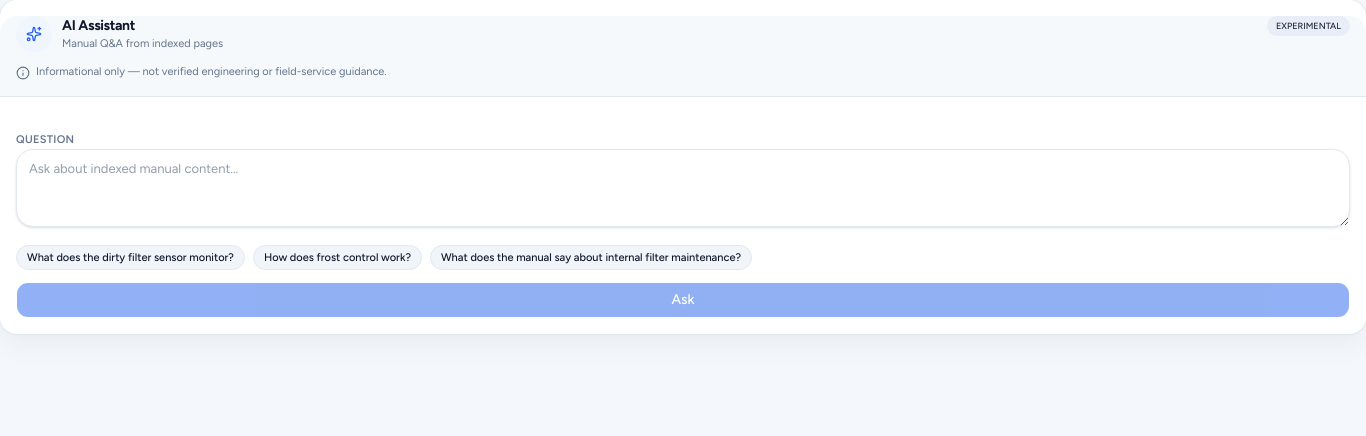
Test case: AiAssistantCard › renders empty-source abstention without inventing citations
The image size is (1366, 436).
Type "What about page ninety-nine?" into the text box named "Assistant question" at (683, 188), box [16,149,1350,227]
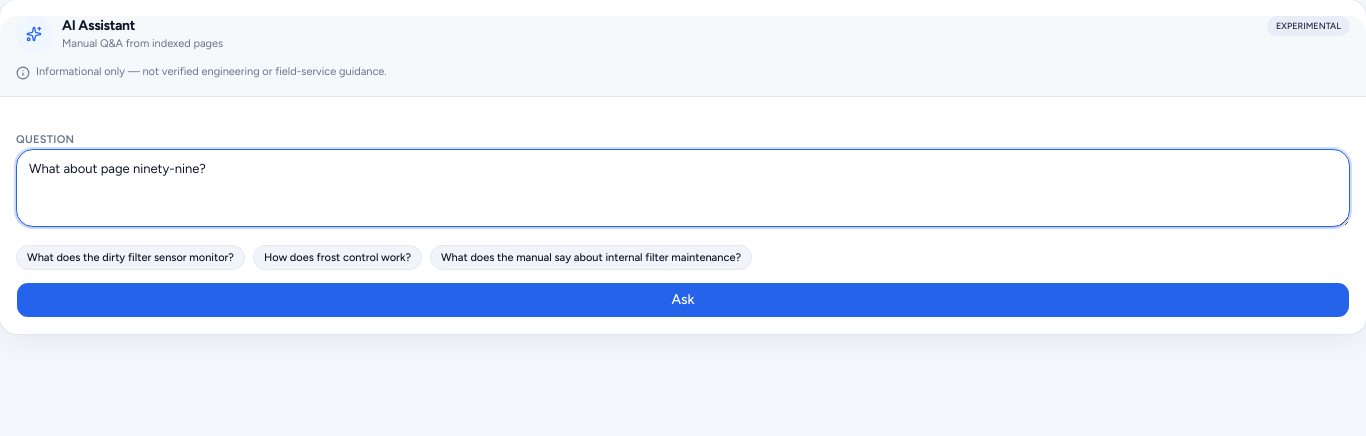
Click the button "Ask" at (683, 300), box [16,282,1350,318]
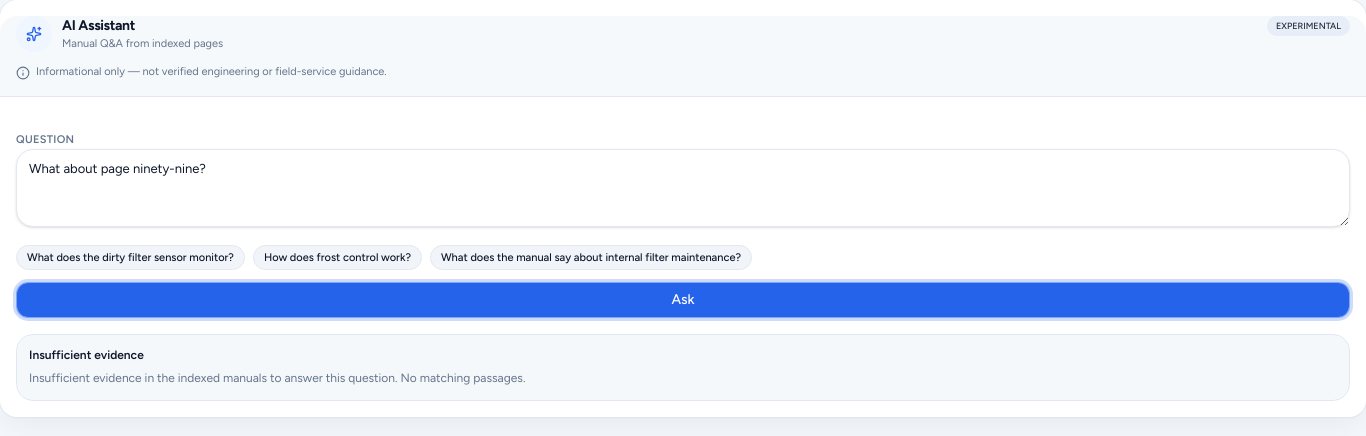
Expected: the element with test id "assistant-result" is shown, [16,334,1350,401]
Expected: the text "Insufficient evidence" is shown, [29,348,144,362]
